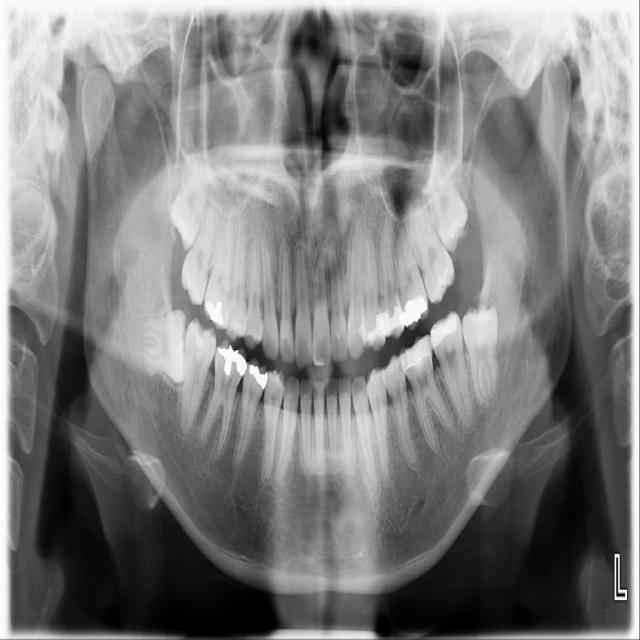3M ESPE Implant: (166, 150, 211, 249)
52: (413, 249, 470, 306), (392, 332, 445, 383), (421, 309, 474, 359), (177, 315, 225, 370), (204, 338, 255, 388), (392, 273, 432, 332), (199, 274, 237, 331), (235, 356, 274, 400), (376, 288, 408, 340), (359, 298, 387, 351), (346, 306, 367, 359), (328, 316, 350, 361), (312, 321, 332, 366)
73: (590, 572, 602, 574)
BioHorizons Implant: (408, 203, 461, 306)
BioLife Implant: (417, 148, 476, 254)
Biomet 3i Implant: (459, 302, 498, 406)
Blue Sky Bio Implant: (427, 309, 477, 436)
Caries: (178, 203, 217, 309)
Implant: (179, 318, 218, 432)
Keystone Dental Implant: (138, 307, 190, 386)
